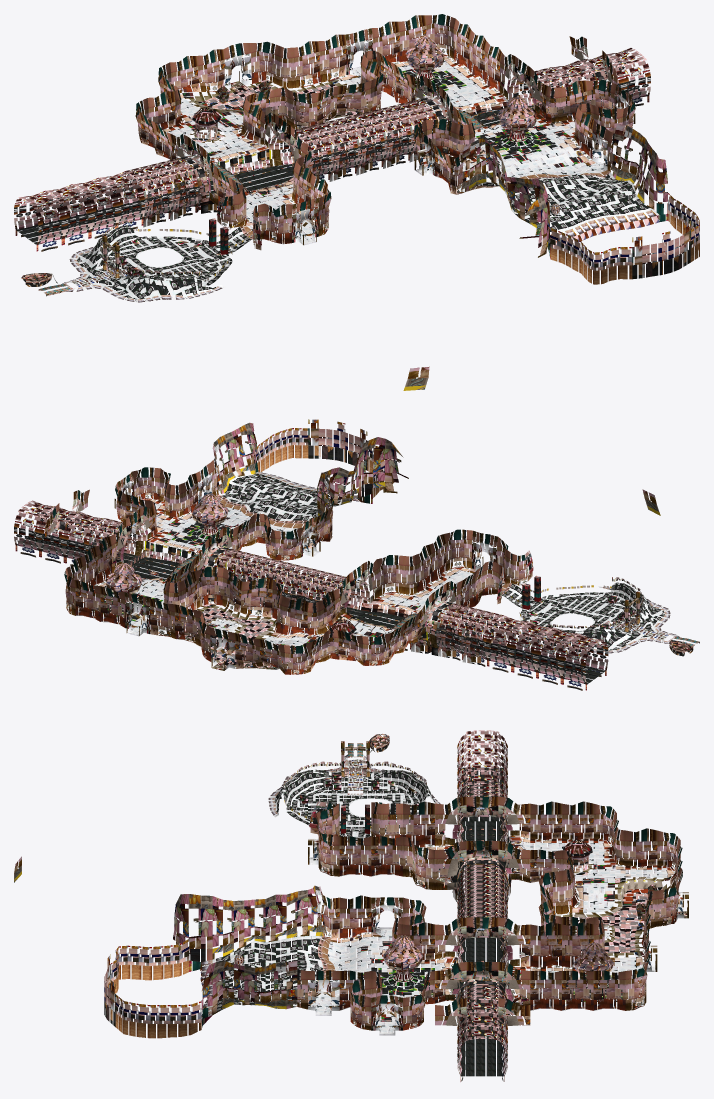
3 renders of one model, top to bottom at view 1: azimuth 30°, elevation 25°; view 2: azimuth 150°, elevation 25°; view 3: azimuth 270°, elevation 25°, orthographic. The views are drawn at different scales.
Visible parts, largest first — view 1: T1L1M001_111, T1L1M001_112, T1L1M001_113, T1L1M001_114, T1L1M001_133, T1L1M001_242, T1L1M001_7, T1L1M001_246, T1L1M001_254, T1L1M001_279, T1L1M001_144, T1L1M001_136 (+49 smaller); view 2: T1L1M001_111, T1L1M001_112, T1L1M001_113, T1L1M001_114, T1L1M001_133, T1L1M001_132, T1L1M001_304, T1L1M001_131, T1L1M001_80, T1L1M001_282, T1L1M001_140, T1L1M001_22 (+63 smaller); view 3: T1L1M001_282, T1L1M001_260, T1L1M001_275, T1L1M001_133, T1L1M001_279, T1L1M001_294, T1L1M001_268, T1L1M001_140, T1L1M001_264, T1L1M001_132, T1L1M001_137, T1L1M001_190 (+65 smaller).
Part boxes in pixels (x1,y1,x2,y2): T1L1M001_111: (14,190,64,251); T1L1M001_112: (40,184,91,245); T1L1M001_113: (67,177,118,238); T1L1M001_114: (94,171,144,229); T1L1M001_133: (599,48,650,108); T1L1M001_242: (255,203,292,244); T1L1M001_7: (223,43,259,97); T1L1M001_246: (449,138,485,194); T1L1M001_254: (137,270,188,301); T1L1M001_279: (625,143,659,213); T1L1M001_144: (380,117,411,168); T1L1M001_136: (167,169,198,220); T1L1M001_111: (560,634,608,690); T1L1M001_112: (535,627,583,684); T1L1M001_113: (511,621,558,678); T1L1M001_114: (486,615,533,672); T1L1M001_133: (14,500,61,557); T1L1M001_132: (39,507,86,563); T1L1M001_304: (308,419,345,462); T1L1M001_131: (63,512,111,567); T1L1M001_80: (239,578,273,624); T1L1M001_282: (339,437,385,503); T1L1M001_140: (356,559,394,619); T1L1M001_22: (124,592,158,636); T1L1M001_282: (179,894,212,979); T1L1M001_260: (275,890,307,962); T1L1M001_275: (212,896,244,963); T1L1M001_133: (457,1025,507,1081); T1L1M001_279: (207,961,244,1014); T1L1M001_294: (138,1004,180,1038); T1L1M001_268: (244,905,275,963); T1L1M001_140: (435,841,466,906); T1L1M001_264: (276,961,307,1009); T1L1M001_132: (457,1012,507,1066); T1L1M001_137: (435,796,466,854); T1L1M001_190: (363,802,402,854).
Bounding box in the file's own units: 100 × 13.69 × 86.38.
